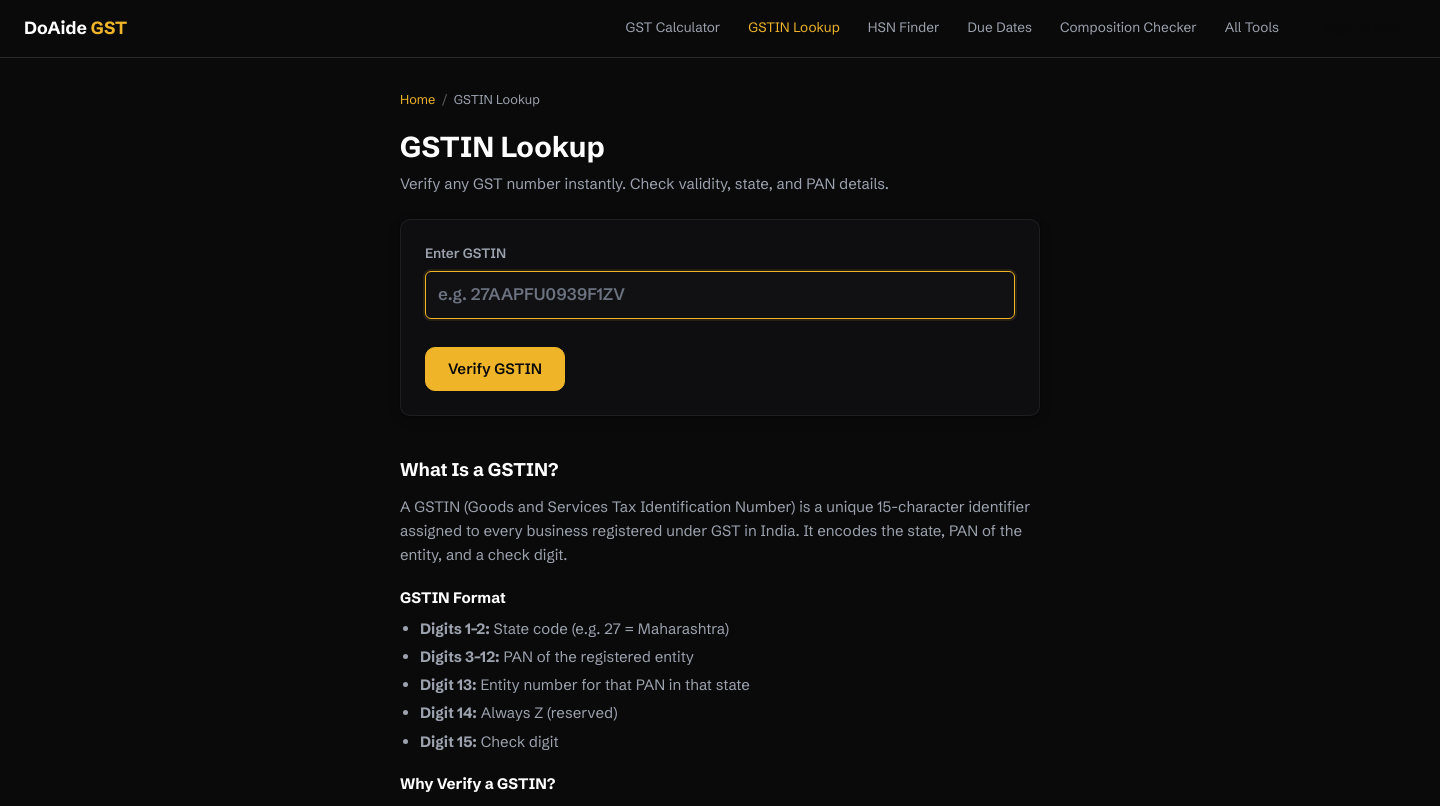
Test: LookupPage › shows error message on network failure
Type "27AAPFU0939F1ZV" into the field with placeholder "e.g. 27AAPFU0939F1ZV".
click(720, 295); type("27AAPFU0939F1ZV")  # box [425,271,1015,319]
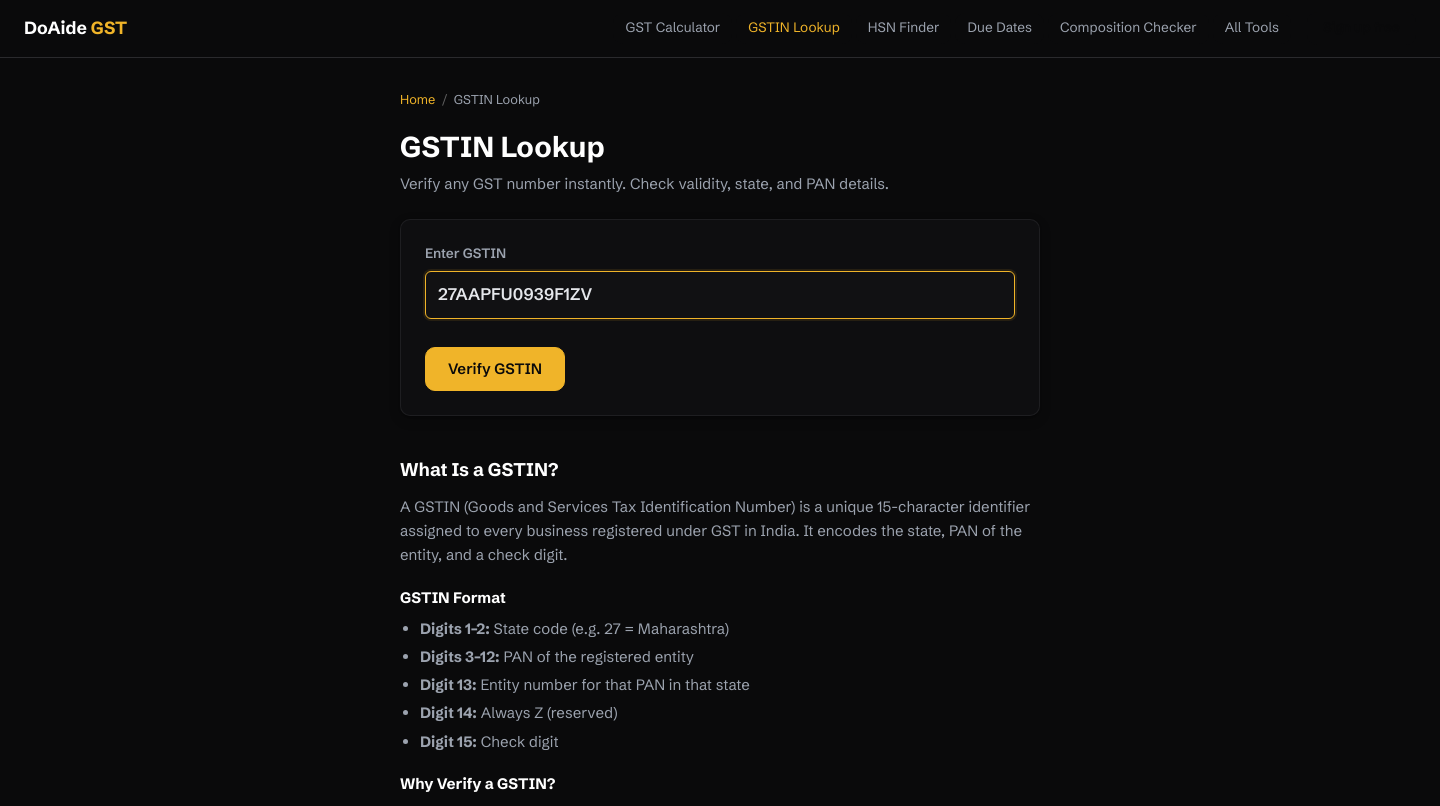
Click the button "Verify GSTIN".
click(495, 369)  # box [425,347,565,391]
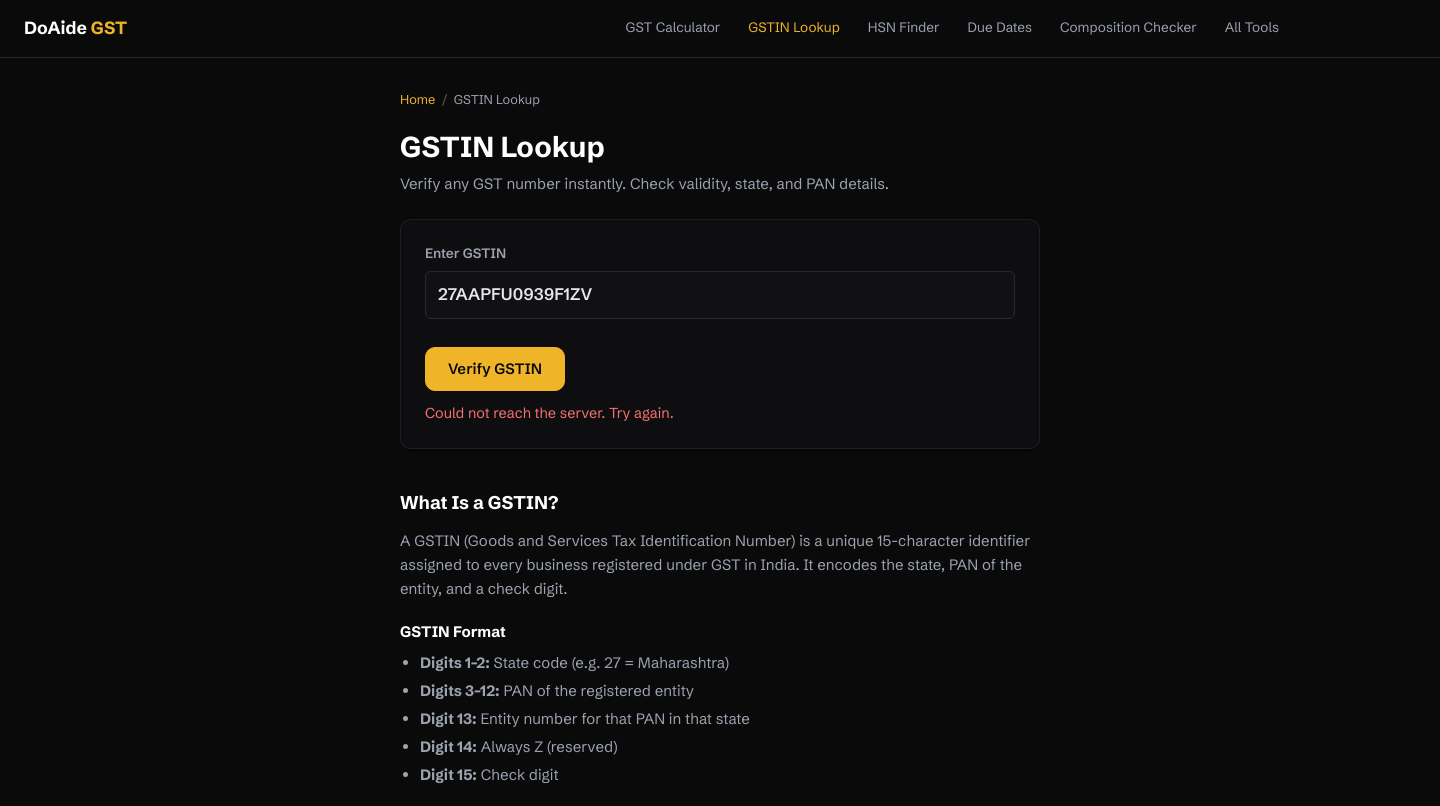
Check: the text "Could not reach the server. Try again." is shown, box [425,404,674,422]
